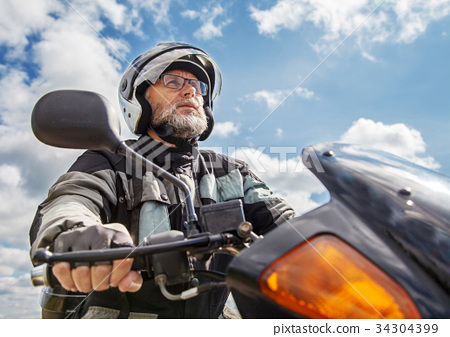helmet: (118, 47, 226, 126)
